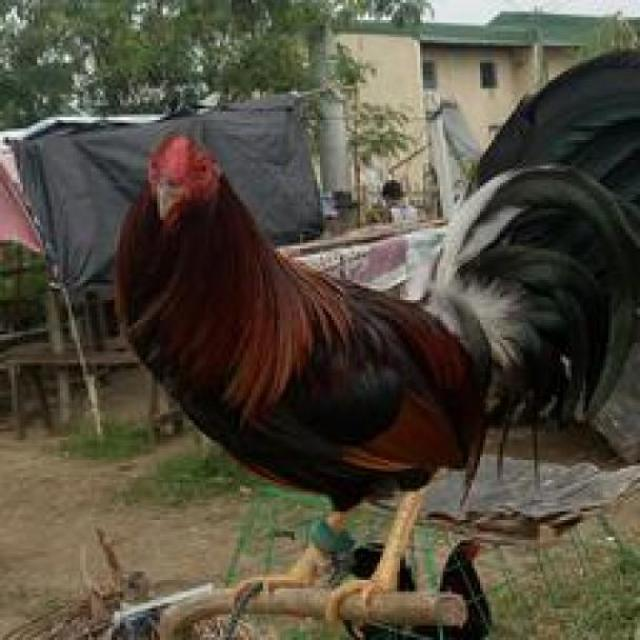Chicken: (105, 95, 631, 637)
